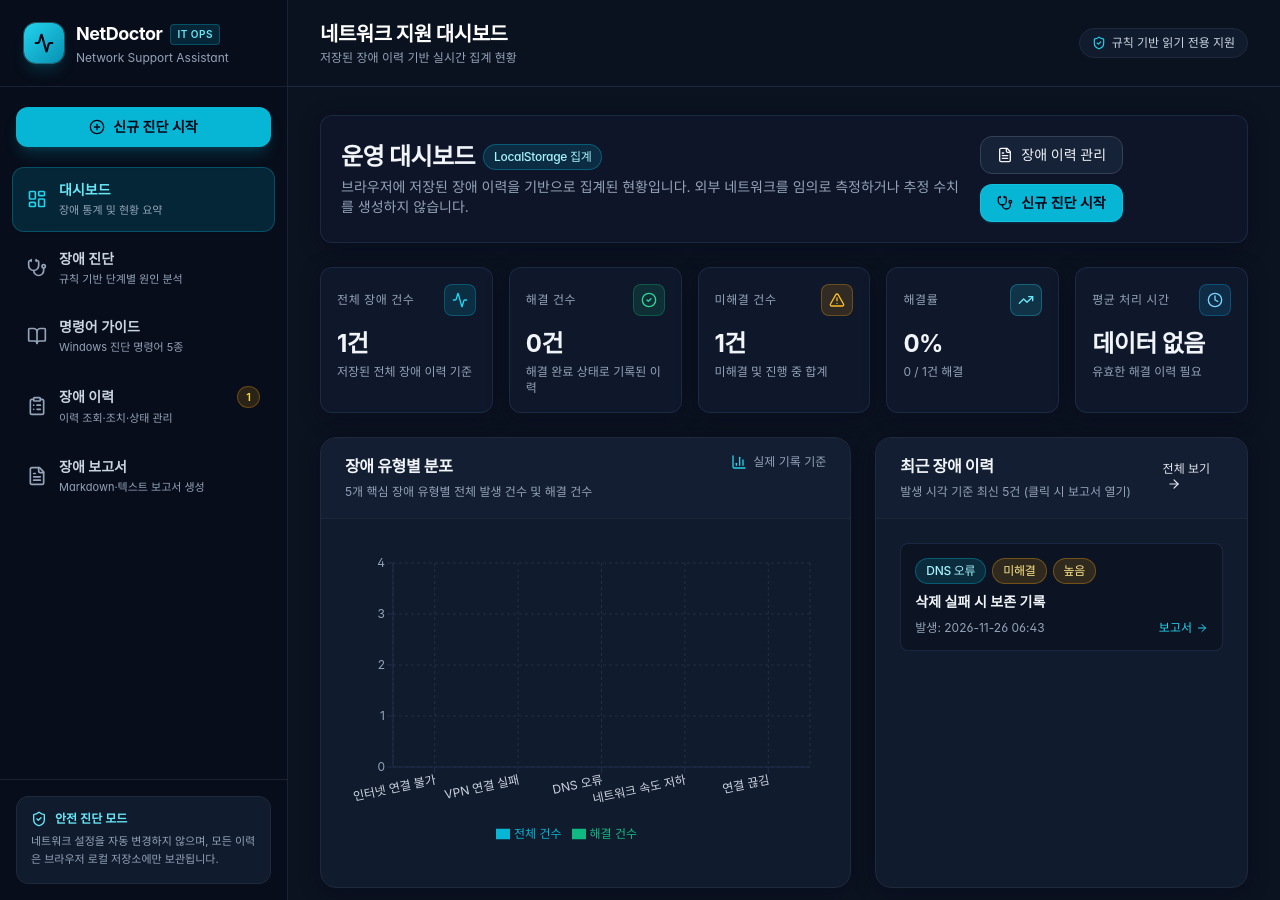
Test: LocalStorage failure resilience & error UX › UI integration tests under QuotaExceededError › HistoryPage: delete fails cleanly on QuotaExceededError, preserves record in UI & storage, and shows error alert
Click the button "장애 이력 1 이력 조회·조치·상태 관리". click: (87, 396)
box: [12,372,275,440]
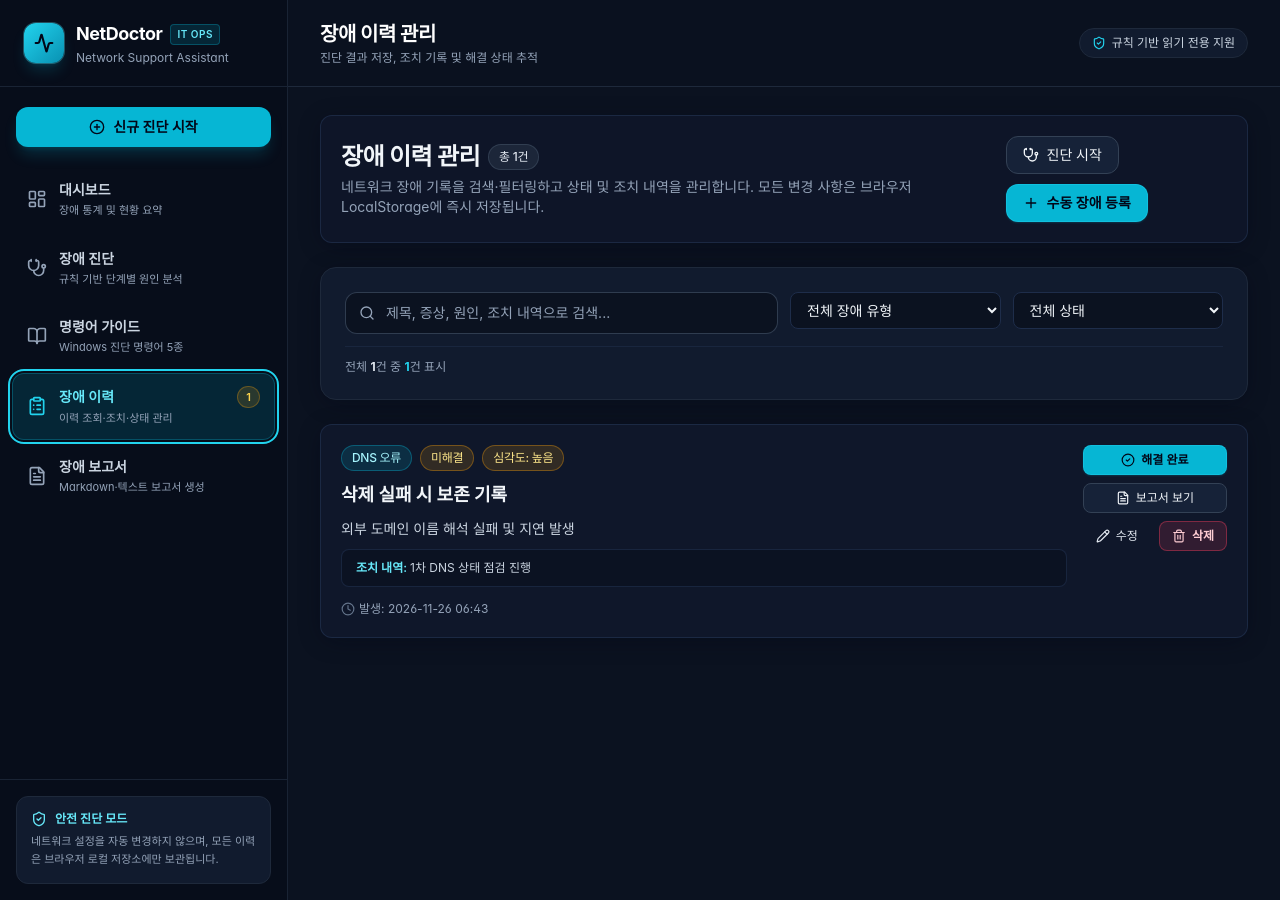
Click the button "삭제". click: (1193, 536)
box: [1159,521,1227,551]
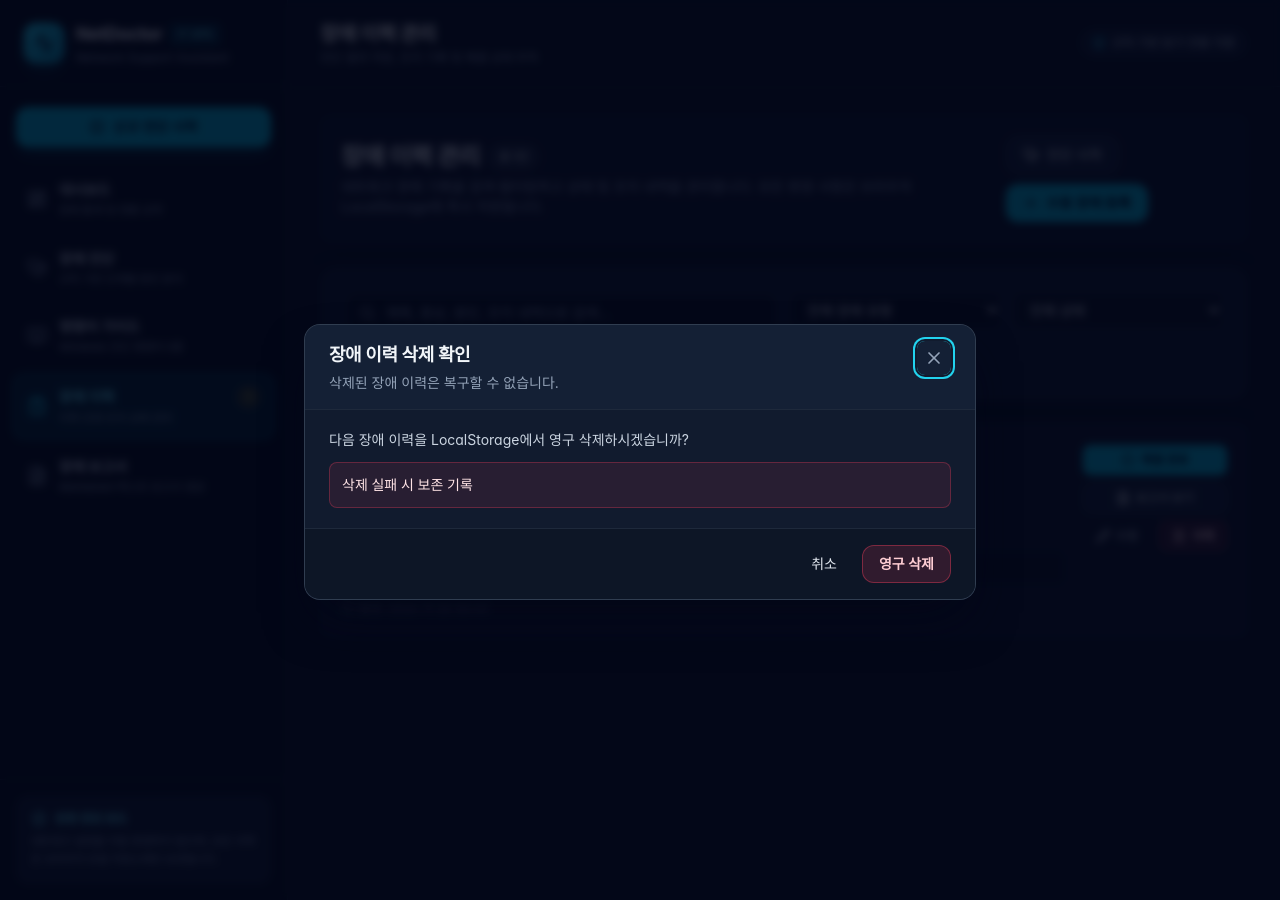
Click the button "영구 삭제". click: (906, 564)
box: [862,545,951,583]
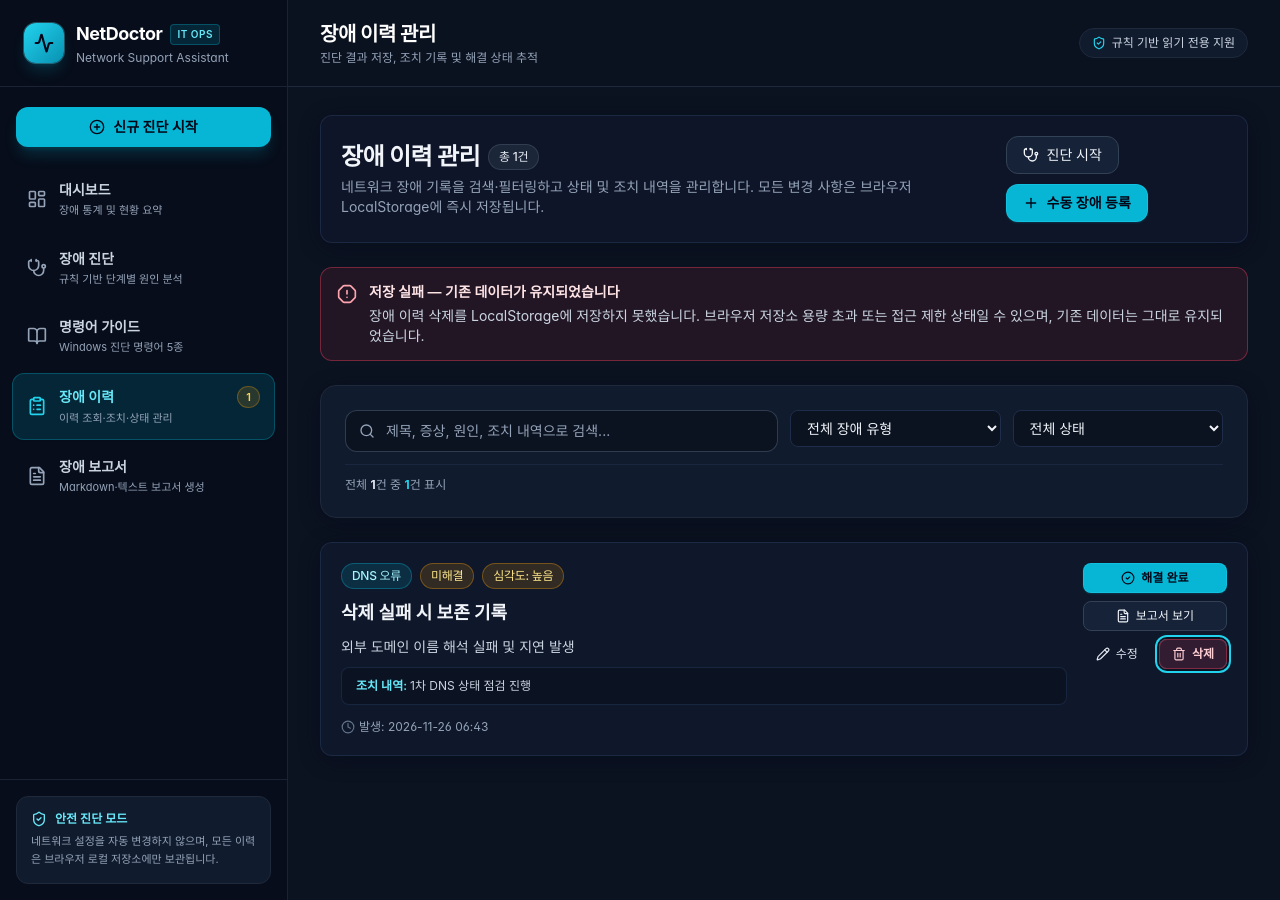
Expected: the heading "삭제 실패 시 보존 기록" is shown, [341,602,507,623]
Result: the message shows "저장 실패" at [369,283,620,300]
Result: the message shows "삭제를 LocalStorage에 저장하지 못했습니다" at [369,307,1223,344]
